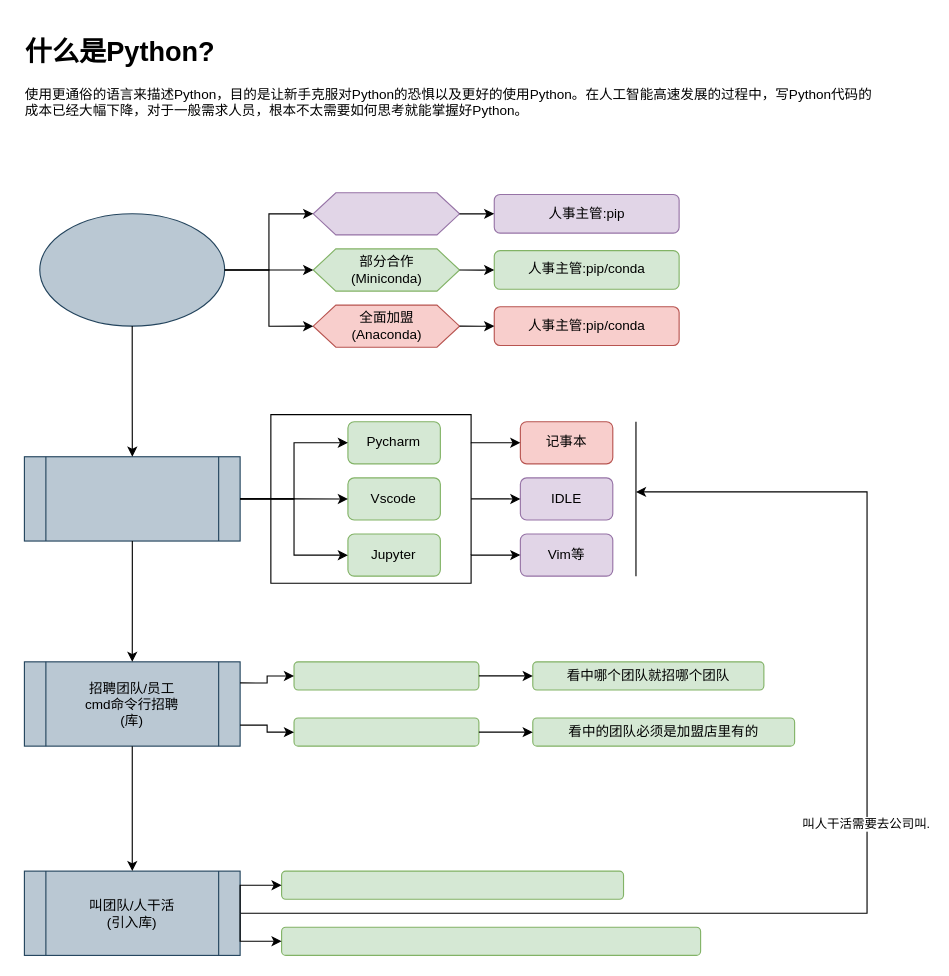
Image size: 949x976. Some labels were removed from this diagram. The shapes that lost their labels are listed below. From the top down, each one's centre as x and y in pixels, then its label:
point 386,213: 自建 (Python)
point 132,269: 建立你的首家 虚拟公司,公司名: Python
point 131,498: 选择你的 公司地址 (IDE:集成开发环境)
point 386,675: pip install **
point 386,731: conda install **
point 452,884: import ** as ** (叫整个团队干活)
point 490,940: from ** import ** as (叫某个团队的某人干活)
